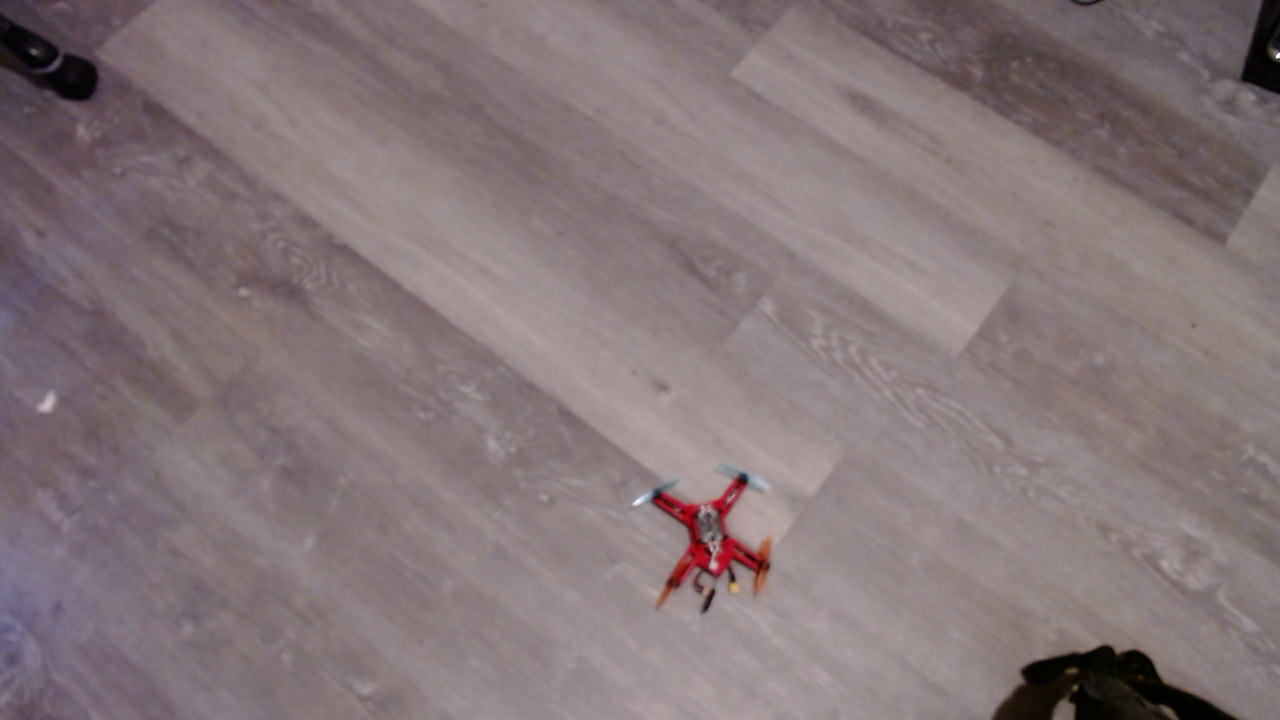crazyflie: (633, 472, 797, 629)
